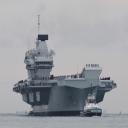Portanaves: (14, 15, 119, 119)
